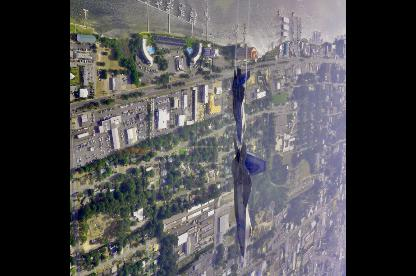F18: (232, 136, 266, 258)
F22: (232, 66, 250, 144)
